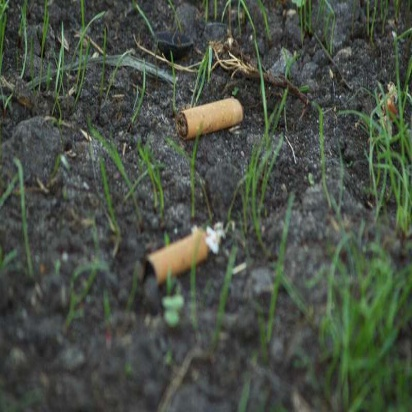cigarette: (146, 217, 227, 288), (171, 91, 251, 142)
